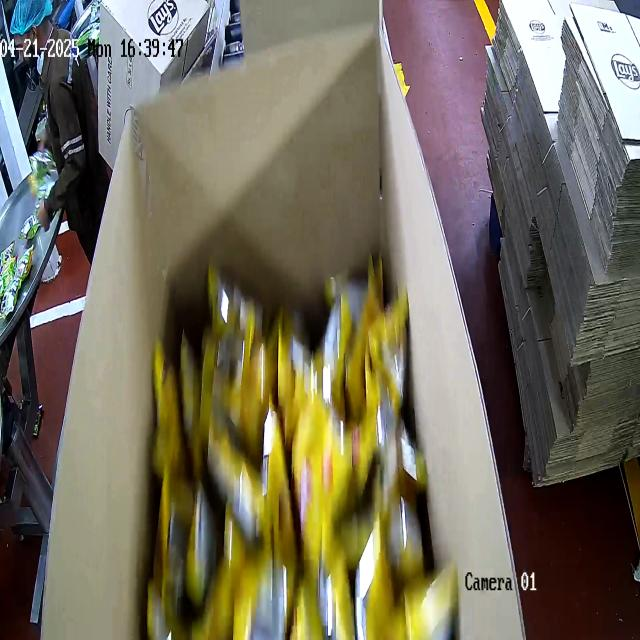SALTED: (150, 264, 458, 640)
